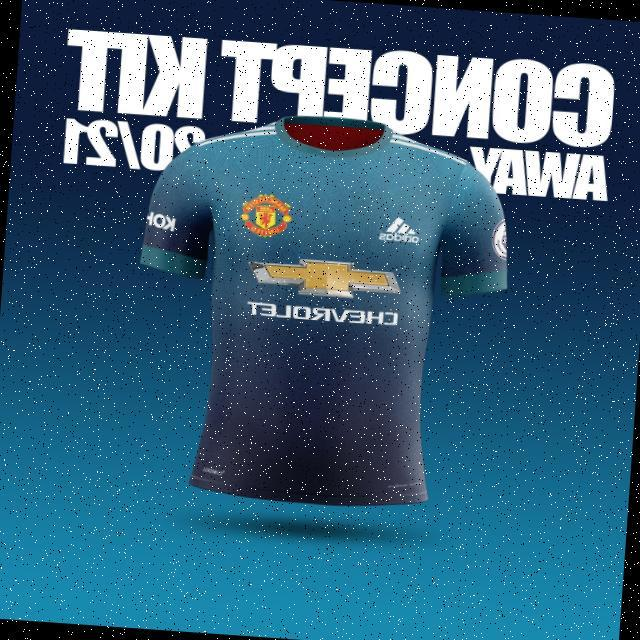Adidas: (377, 213, 422, 248)
Chevrolet: (235, 253, 405, 330)
